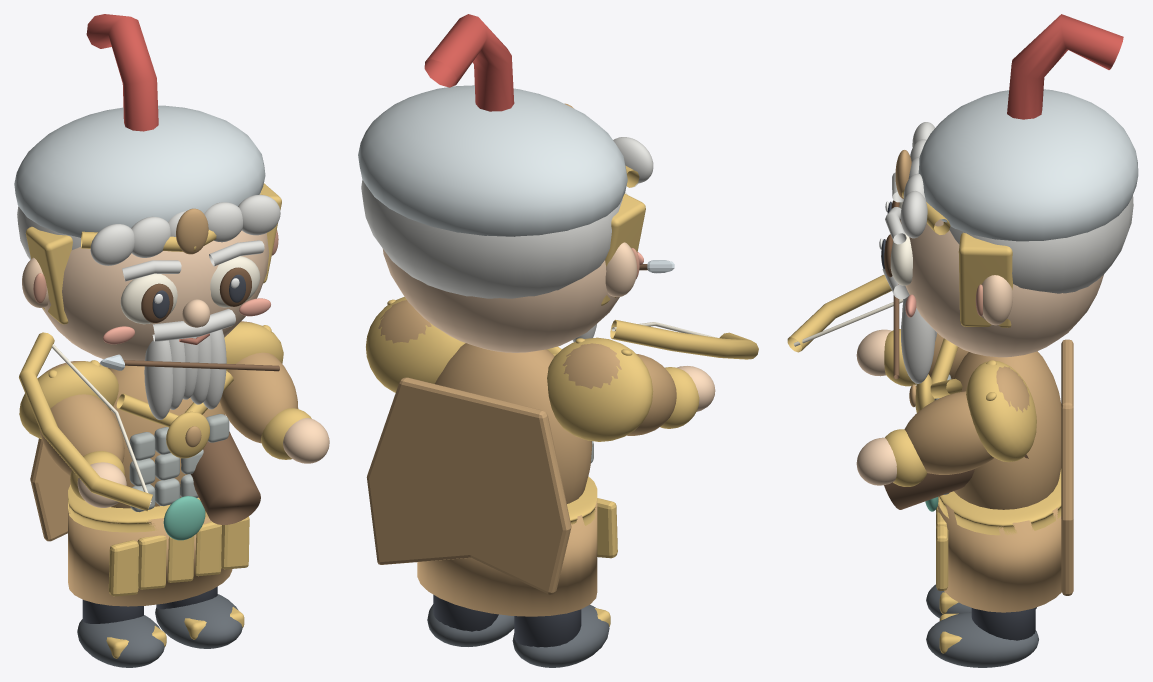
Rendered from huangzhong.fbx.
The picture shows the model from 3 angles, left to right: view 1: azimuth 30°, elevation 25°; view 2: azimuth 150°, elevation 25°; view 3: azimuth 270°, elevation 25°; orthographic projection. The views are drawn at different scales.
Visible parts, largest first — view 1: helmet, face, robe_skirt, plume, sleeve, quiver, recurve_bow, sleeve.001, boot, boot.001, shoulder_gold.001, cape (+49 smaller); view 2: cape, helmet, hair_mass, face, robe_skirt, body, shoulder_gold.001, plume, shoulder_gold, recurve_bow, boot, leg (+12 smaller); view 3: helmet, face, robe_skirt, body, hair_mass, plume, sleeve, shoulder_gold, boot.001, cape, cheek_guard.001, belt (+18 smaller).
Part boxes in pixels (<box>): helmet: <box>14,105,265,237</box>; face: <box>42,230,269,360</box>; robe_skirt: <box>68,505,232,606</box>; plume: <box>86,14,158,131</box>; sleeve: <box>220,352,298,443</box>; quiver: <box>190,431,260,524</box>; recurve_bow: <box>19,332,152,511</box>; sleeve.001: <box>39,394,124,476</box>; boot: <box>77,615,164,667</box>; boot.001: <box>155,594,242,648</box>; shoulder_gold.001: <box>19,361,118,439</box>; cape: <box>30,367,107,541</box>; cape: <box>366,377,571,594</box>; helmet: <box>358,85,627,236</box>; hair_mass: <box>361,180,622,298</box>; face: <box>382,248,619,352</box>; robe_skirt: <box>417,499,597,616</box>; body: <box>435,343,592,503</box>; shoulder_gold.001: <box>547,337,653,441</box>; plume: <box>424,14,514,111</box>; shoulder_gold: <box>366,296,465,392</box>; recurve_bow: <box>610,319,758,359</box>; boot: <box>512,605,609,667</box>; leg: <box>514,609,581,647</box>; helmet: <box>918,89,1138,241</box>; face: <box>900,219,1103,357</box>; robe_skirt: <box>937,497,1061,612</box>; body: <box>952,351,1061,509</box>; hair_mass: <box>949,196,1133,293</box>; plume: <box>1007,14,1123,119</box>; sleeve: <box>904,391,994,474</box>; shoulder_gold: <box>966,361,1036,462</box>; boot.001: <box>926,612,1038,667</box>; cape: <box>1061,339,1073,595</box>; cheek_guard.001: <box>958,232,1012,327</box>; belt: <box>938,469,1061,535</box>.
Bounding box in the file's own units: 1.38 × 2.81 × 1.43.
